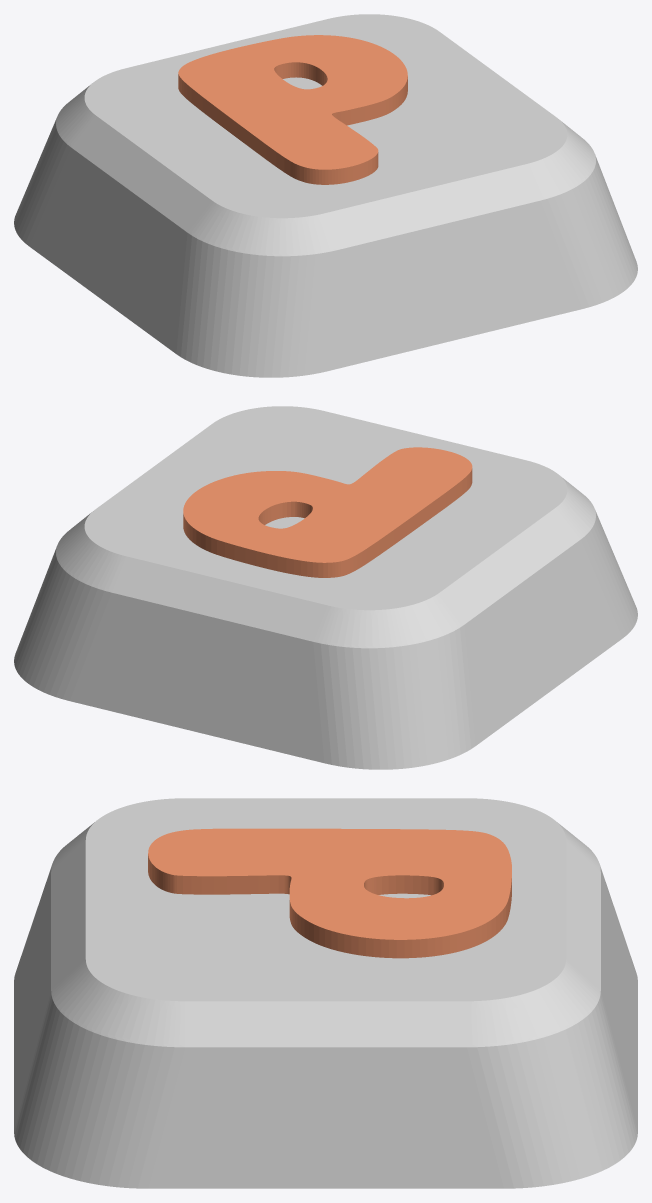
File: cap-P.glb
3 views of the same model, one above another, from view 1: azimuth 30°, elevation 25°; view 2: azimuth 150°, elevation 25°; view 3: azimuth 270°, elevation 25° (orthographic). The views are drawn at different scales.
Visible parts, largest first — view 1: cap_0, glyph_1; view 2: cap_0, glyph_1; view 3: cap_0, glyph_1.
Boxes of the visible parts, x1,y1,x2,y2 form: cap_0: [14, 14, 637, 377]; glyph_1: [178, 35, 407, 184]; cap_0: [14, 406, 637, 769]; glyph_1: [183, 447, 472, 577]; cap_0: [14, 798, 637, 1188]; glyph_1: [148, 828, 511, 958].
Size of the model in its own units: 18 by 5.59 by 18.
